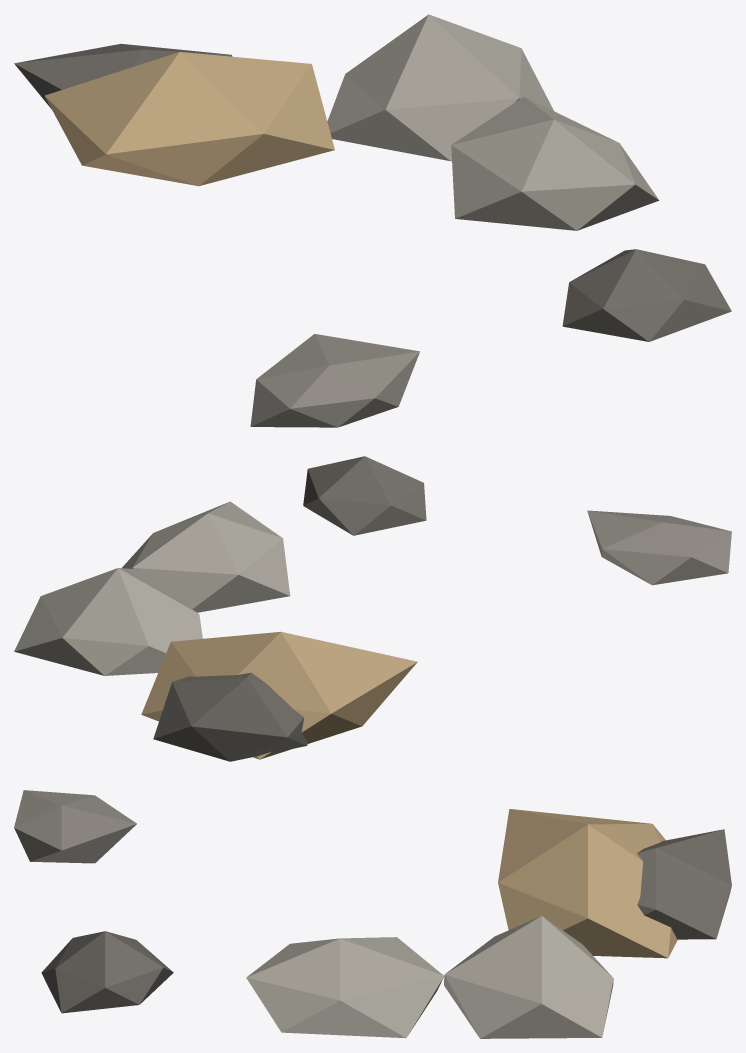
File: cailloux.glb
3 renders of one model, top to bottom at view 1: azimuth 30°, elevation 25°; view 2: azimuth 150°, elevation 25°; view 3: azimuth 270°, elevation 25°, orthographic. The views are drawn at different scales.
Visible parts, largest first — view 1: cailloux; view 2: cailloux; view 3: cailloux.
Boxes of the visible parts, bbox=[...] form: cailloux: bbox=[14, 14, 731, 427]; cailloux: bbox=[14, 456, 731, 761]; cailloux: bbox=[14, 790, 731, 1038].
Bounding box in the file's own units: 0.7524 × 0.1545 × 0.9854.
1 material, 1 textured.
